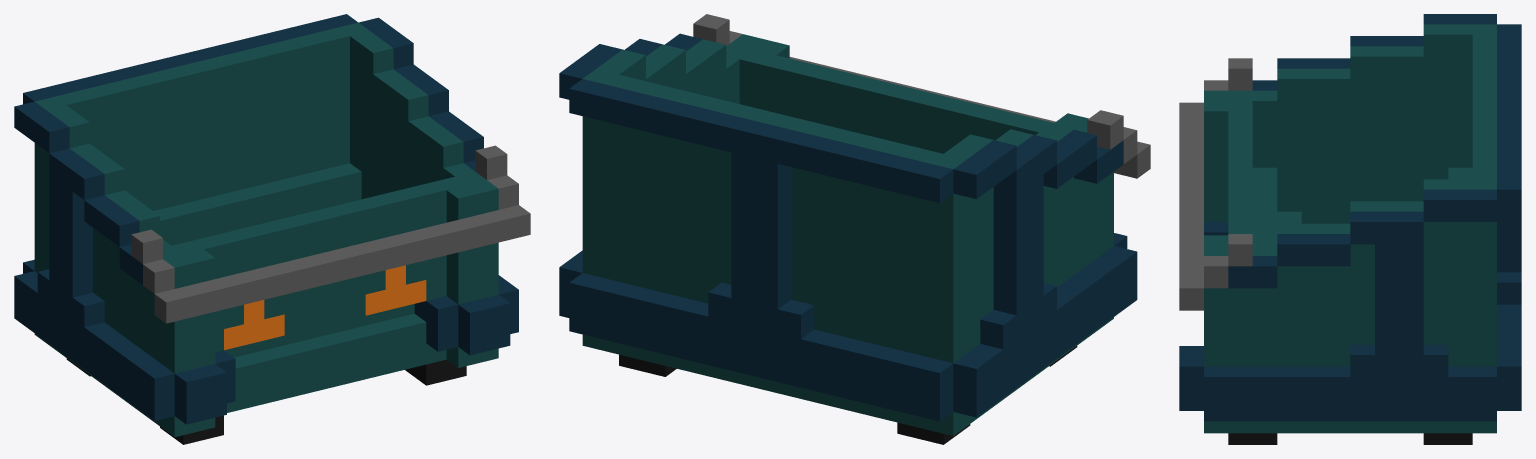
The model's file is Dumpster0.obj.
The picture shows the model from 3 angles, left to right: view 1: azimuth 30°, elevation 25°; view 2: azimuth 150°, elevation 25°; view 3: azimuth 270°, elevation 25°; orthographic projection. The views are drawn at different scales.
Bounding box in the file's own units: 1.8 × 1.2 × 1.4.
Materials: 1 (1 with a texture image).
